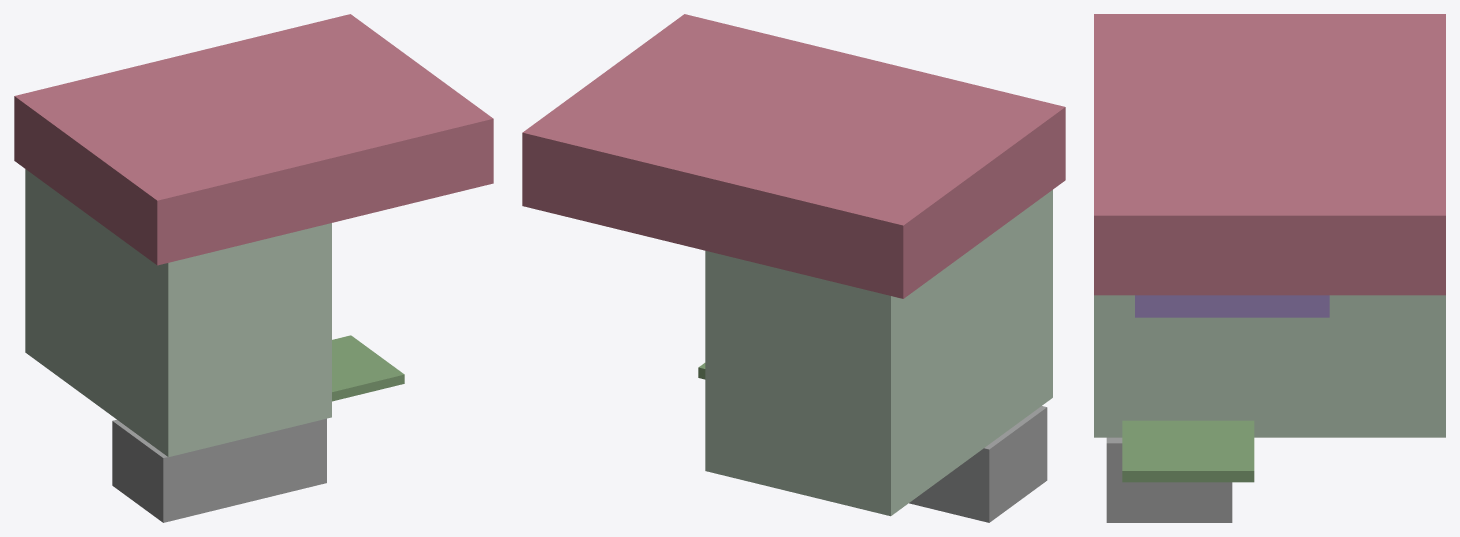
Rendered from 199502_pred.glb.
The picture shows the model from 3 angles, left to right: view 1: azimuth 30°, elevation 25°; view 2: azimuth 150°, elevation 25°; view 3: azimuth 270°, elevation 25°; orthographic projection. The views are drawn at different scales.
Parts seen in each view (by area): view 1: world; view 2: world; view 3: world.
Boxes of the visible parts, x1=… form: world: x1=14, y1=14, x2=493, y2=522; world: x1=522, y1=14, x2=1065, y2=522; world: x1=1094, y1=14, x2=1445, y2=522.
Size of the model in its own units: 7.6 by 7.1 by 5.6.
